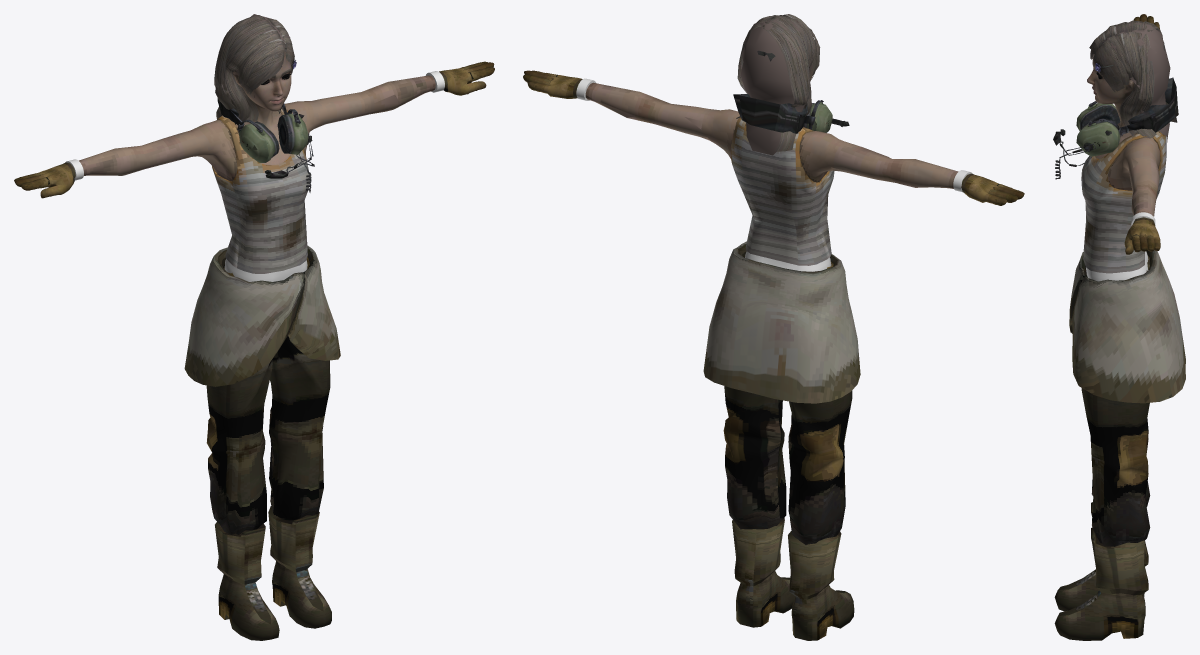
Rendered from sunny.FBX.
The picture shows the model from 3 angles, left to right: view 1: azimuth 30°, elevation 25°; view 2: azimuth 150°, elevation 25°; view 3: azimuth 270°, elevation 25°; orthographic projection. The views are drawn at different scales.
Visible parts, largest first — view 1: objObject06, Object07, Object01, Object02, Object21, Object15, Object06, Object053, Object16, Object52, Object14, Object26 (+1 smaller); view 2: objObject06, Object07, Object01, Object02, Object12, Object15, Object21, Object053, Object52; view 3: objObject06, Object07, Object01, Object21, Object02, Object15, Object12, Object06, Object52, Object19, Object26, Object14 (+3 smaller).
Part boxes in pixels (bbox=[...]): objObject06: bbox=[206, 257, 331, 640]; Object07: bbox=[184, 245, 340, 386]; Object01: bbox=[212, 108, 309, 273]; Object02: bbox=[79, 75, 435, 181]; Object21: bbox=[217, 98, 308, 162]; Object15: bbox=[214, 15, 286, 122]; Object06: bbox=[232, 50, 291, 165]; Object053: bbox=[14, 162, 75, 198]; Object16: bbox=[225, 29, 280, 122]; Object52: bbox=[439, 61, 494, 95]; Object14: bbox=[239, 36, 292, 86]; Object26: bbox=[224, 259, 307, 281]; objObject06: bbox=[723, 255, 854, 640]; Object07: bbox=[703, 241, 860, 403]; Object01: bbox=[731, 117, 834, 265]; Object02: bbox=[585, 82, 958, 188]; Object12: bbox=[740, 17, 811, 155]; Object15: bbox=[736, 15, 812, 151]; Object21: bbox=[733, 94, 832, 133]; Object053: bbox=[961, 173, 1024, 205]; Object52: bbox=[523, 70, 582, 98]; objObject06: bbox=[1054, 256, 1150, 640]; Object07: bbox=[1069, 250, 1185, 403]; Object01: bbox=[1081, 131, 1166, 273]; Object21: bbox=[1076, 77, 1178, 156]; Object02: bbox=[1108, 137, 1160, 216]; Object15: bbox=[1109, 20, 1177, 138]; Object12: bbox=[1105, 22, 1170, 142]; Object06: bbox=[1087, 42, 1164, 158]; Object52: bbox=[1124, 217, 1160, 254]; Object19: bbox=[1090, 36, 1124, 91]; Object26: bbox=[1086, 251, 1148, 281]; Object14: bbox=[1089, 31, 1129, 84].
Bounding box in the file's own units: 128 × 150 × 30.22.
16 materials, 15 textured.
